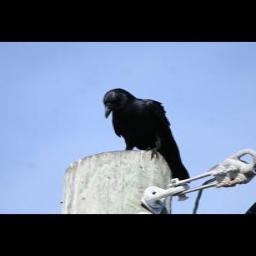Crow: (101, 88, 190, 185)
